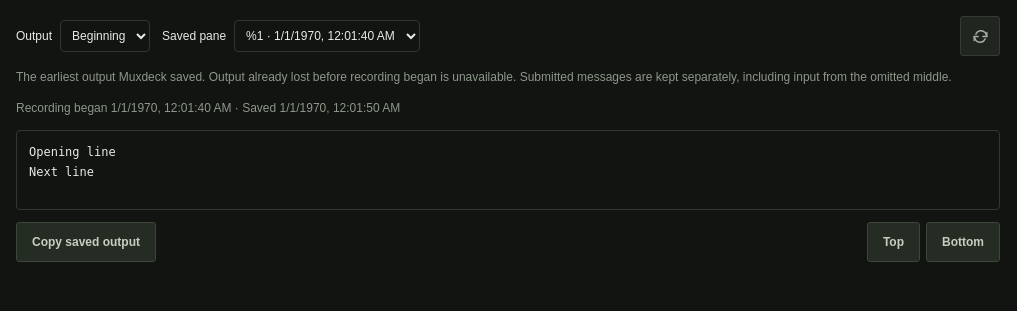
it: SavedScrollback › keeps saved text selectable after clipboard access fails
Expected: the text named "Beginning output" is shown, [16,130,1000,210]
What coordinates should you click on to do the following:
click the button "Copy saved output"
I would click on:
 (86, 242)
Its box is [16,222,156,262].
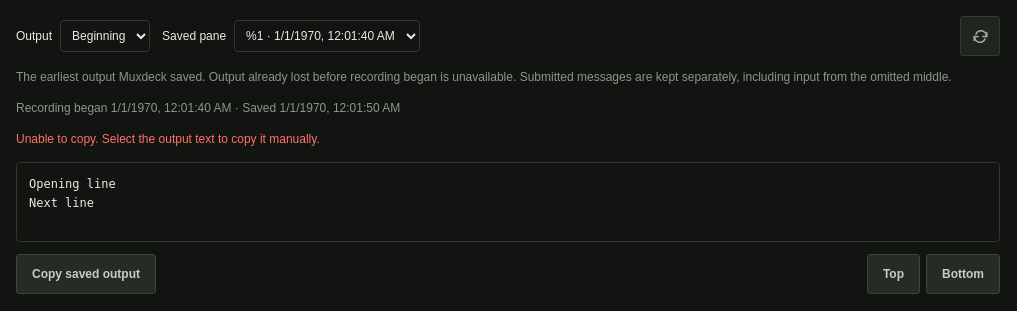
Expected: the text named "Beginning output" shows "Opening line", [29,177,116,210]
Result: the message shows "Select the output text" at [16,132,320,146]
